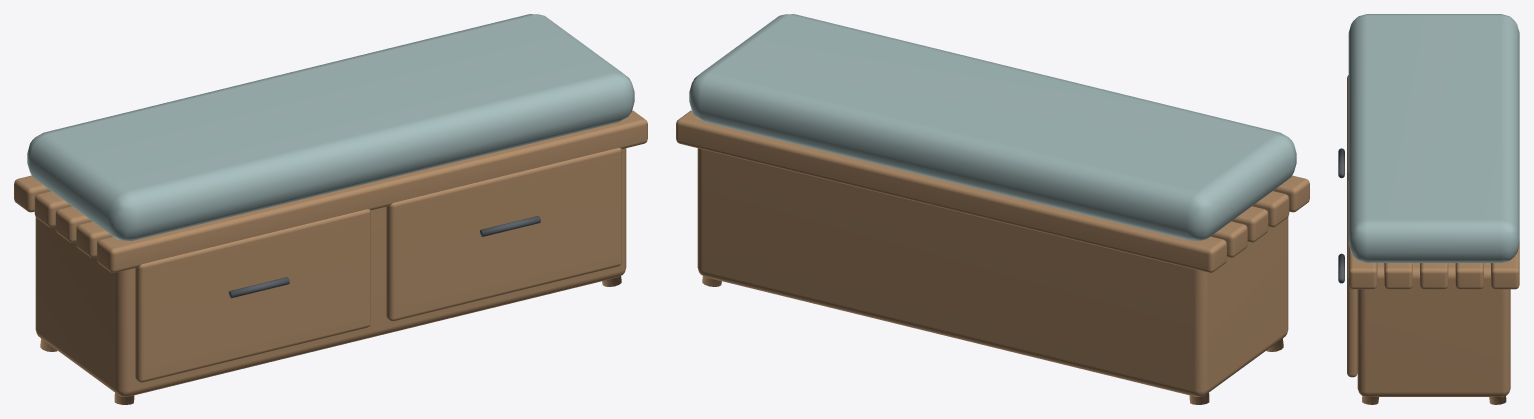
The model's file is atelier-window-seat.glb.
3 views of the same model, side by side, from view 1: azimuth 30°, elevation 25°; view 2: azimuth 150°, elevation 25°; view 3: azimuth 270°, elevation 25° (orthographic). The views are drawn at different scales.
Visible parts, largest first — view 1: legs.018, fabric.021, metal.005; view 2: legs.018, fabric.021; view 3: fabric.021, legs.018, metal.005.
Part boxes in pixels (bbox=[...]): legs.018: bbox=[14, 110, 647, 404]; fabric.021: bbox=[27, 14, 634, 240]; metal.005: bbox=[228, 216, 540, 298]; legs.018: bbox=[676, 110, 1309, 404]; fabric.021: bbox=[689, 14, 1296, 240]; fabric.021: bbox=[1348, 14, 1519, 262]; legs.018: bbox=[1347, 75, 1519, 404]; metal.005: bbox=[1338, 148, 1344, 283].
Bounding box in the file's own units: 1.5 × 0.5684 × 0.509.
